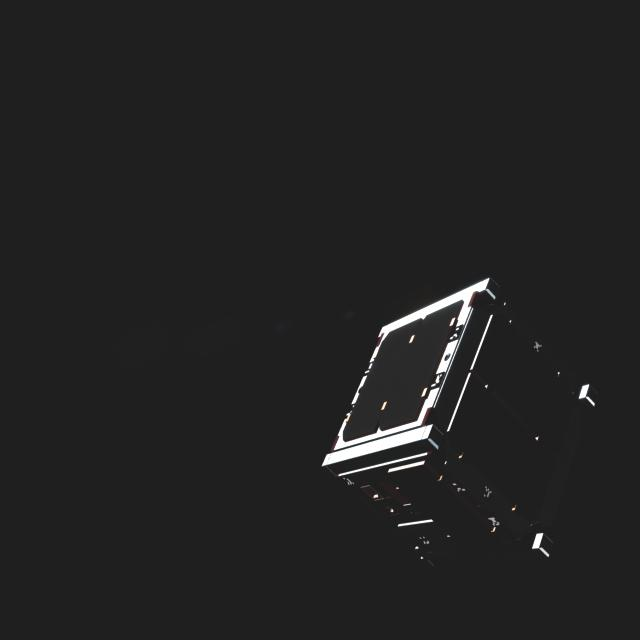medium_debris: (326, 277, 614, 578)
